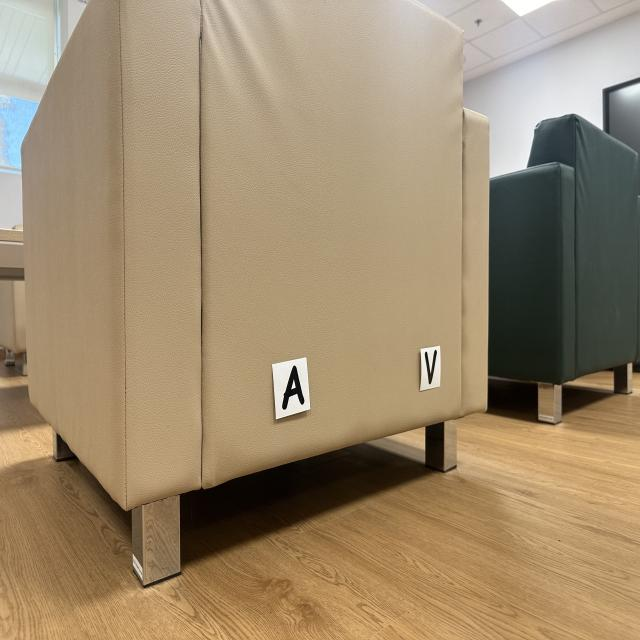A: (282, 365, 305, 410)
V: (425, 350, 437, 385)
